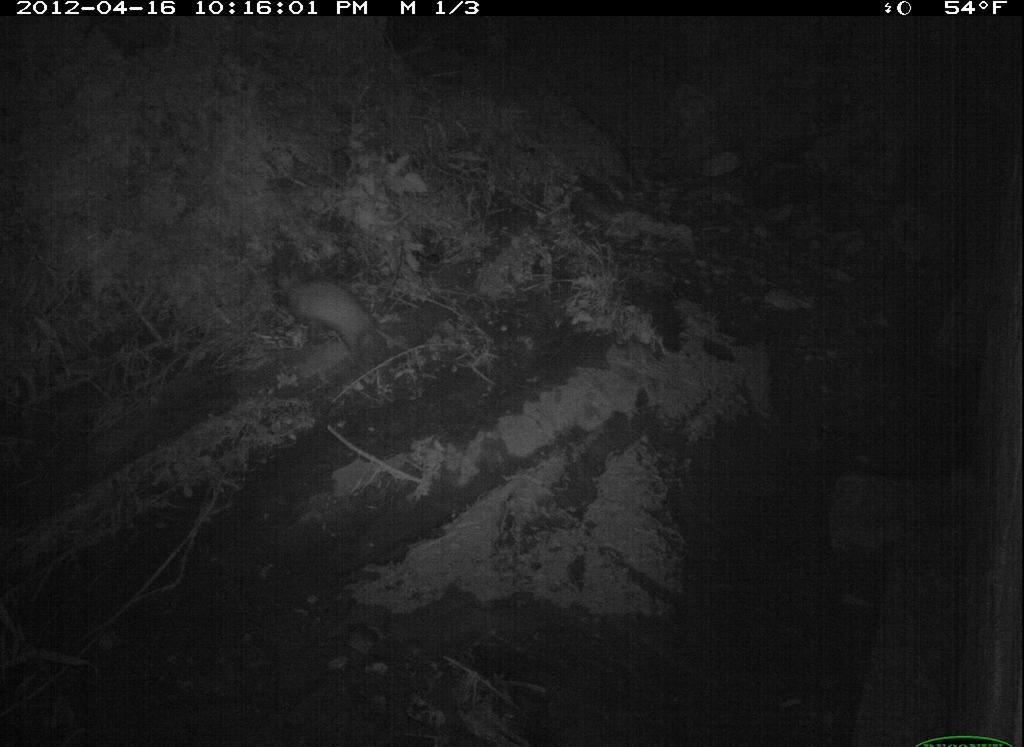opossum: (269, 263, 422, 379)
